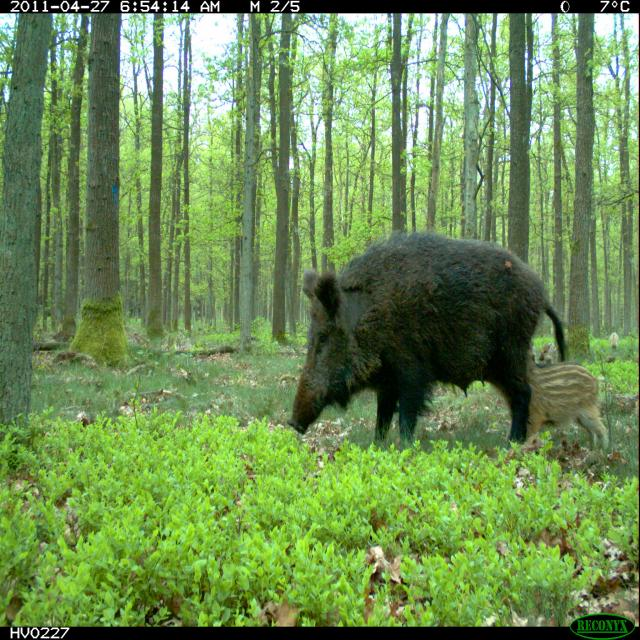boar: (270, 200, 590, 480)
